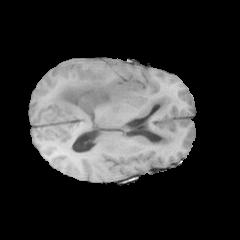glioma: (51, 74, 179, 149)
